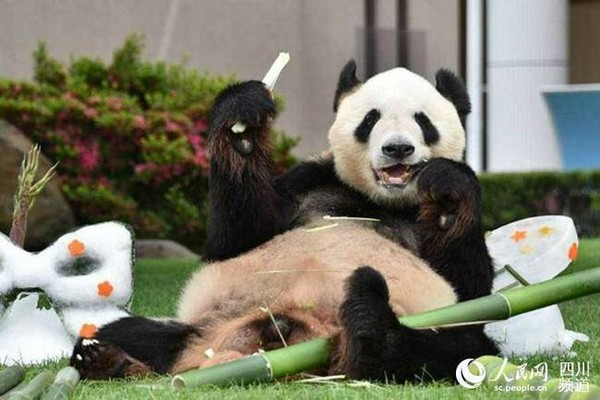panda: (68, 56, 508, 386)
